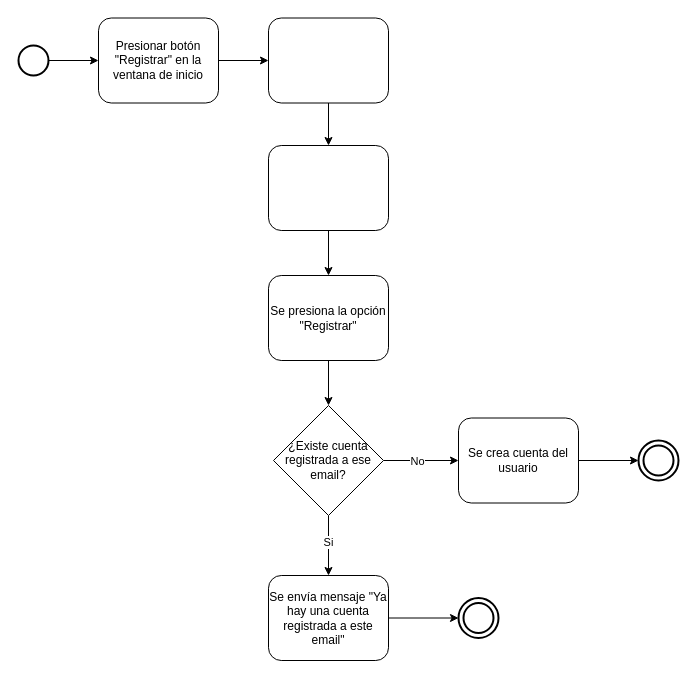
Some shapes in this 696 by 678 pixel diagram are drawn without their labels. Each missing label, with the centre of its shape:
Se despliega la ventana "Registro de usuario": (328,60)
Se rellenan los campos para el registro: (328,187)
